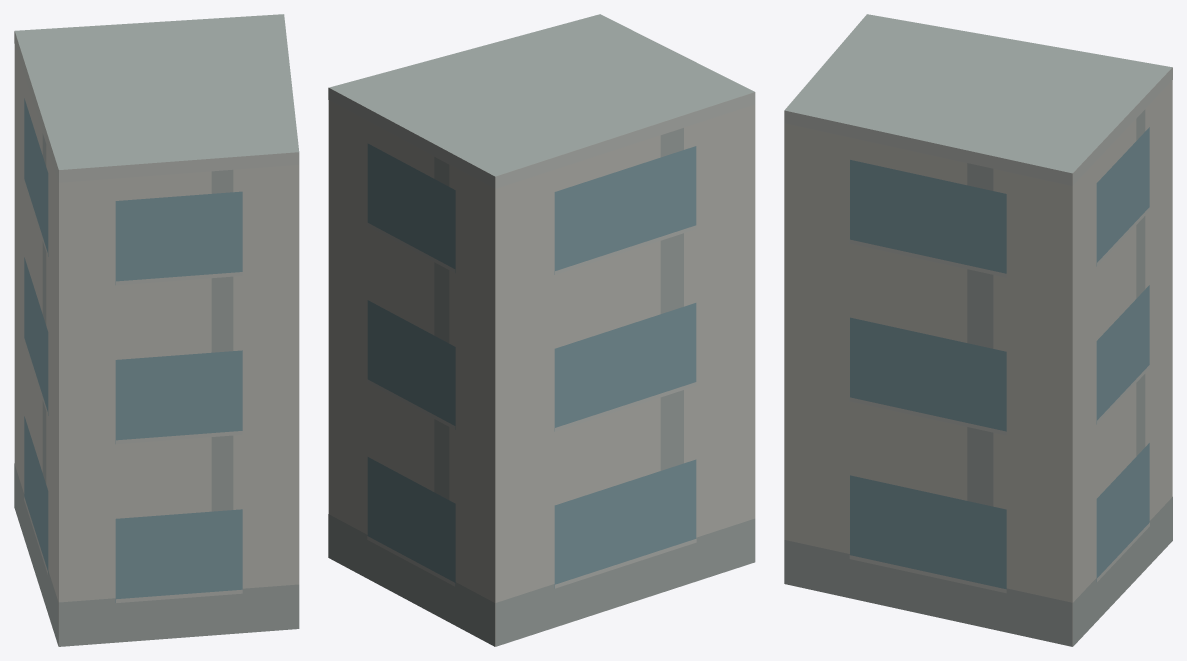
The model's file is survey-upis-32531256.glb.
3 views of the same model, side by side, from view 1: azimuth 30°, elevation 25°; view 2: azimuth 150°, elevation 25°; view 3: azimuth 270°, elevation 25° (orthographic).
Visible parts, largest first — view 1: survey-upis-32531256.tmp; view 2: survey-upis-32531256.tmp; view 3: survey-upis-32531256.tmp.
Part boxes in pixels (bbox=[...]): survey-upis-32531256.tmp: bbox=[14, 14, 299, 646]; survey-upis-32531256.tmp: bbox=[328, 14, 755, 646]; survey-upis-32531256.tmp: bbox=[784, 14, 1172, 646].
Size of the model in its own units: 6.62 by 9.15 by 6.81.
